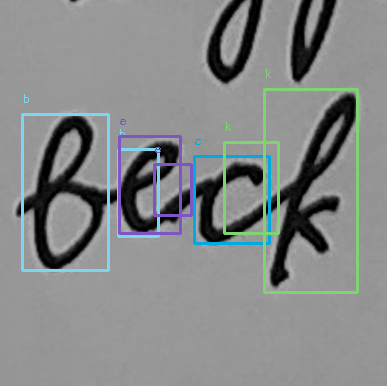b: (24, 109, 109, 274)
c: (194, 158, 266, 248)
e: (113, 136, 187, 237)
k: (267, 87, 360, 290)
